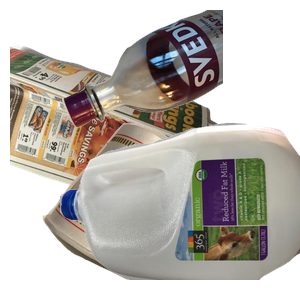glass: (60, 10, 300, 130)
paper: (10, 42, 224, 222)
plastic: (60, 120, 300, 300)
trash: (40, 121, 221, 300)
